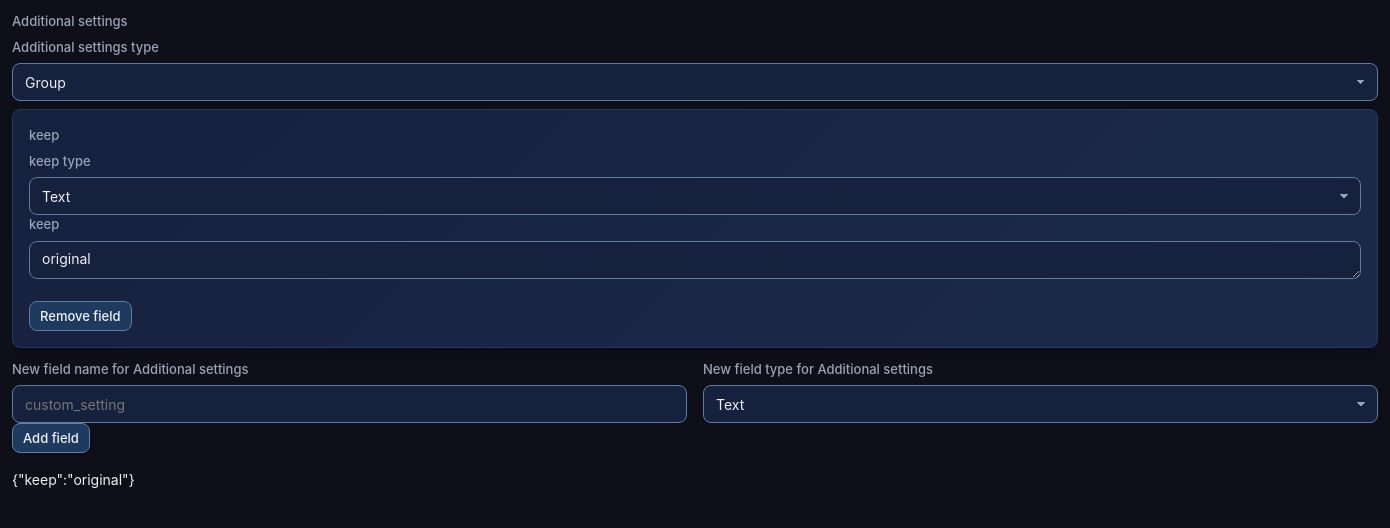
JsonValueEditor › validates duplicate names without overwriting an existing property
This screenshot has width=1390, height=528.
Type "keep" into the field labelled "New field name for Additional settings".
click(350, 404); type("keep")  # box [12,385,687,423]
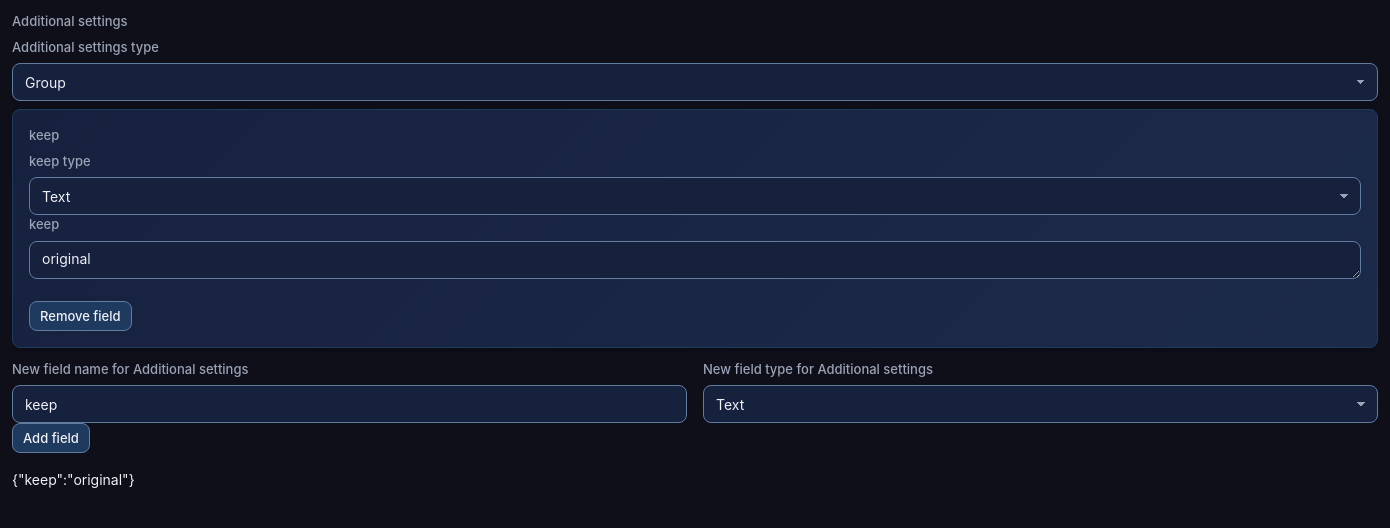
Click the button with aria-label "Add field to Additional settings".
click(51, 438)  # box [12,423,90,453]
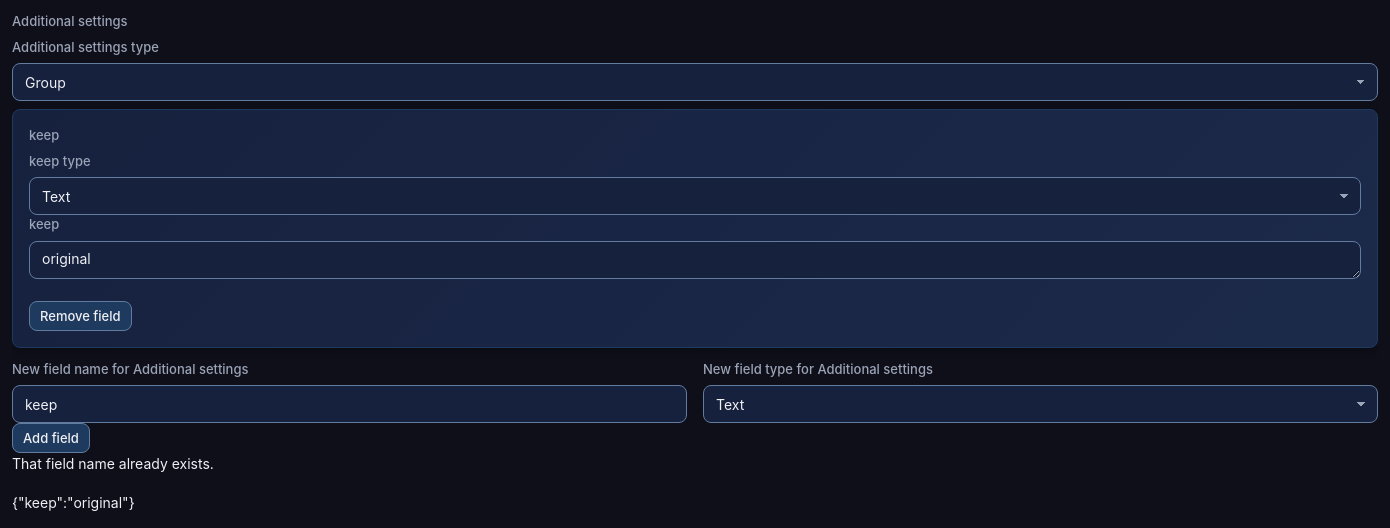
Expected: the text "That field name already exists." is shown, [12,455,214,472]
